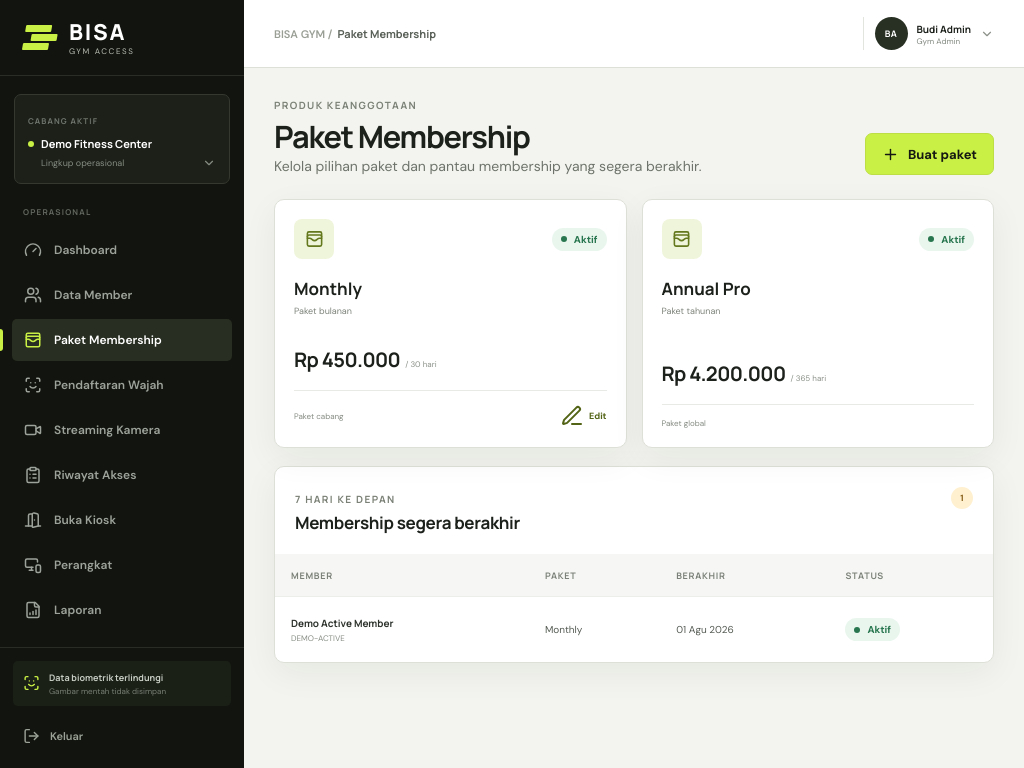
it: admin API integrations › creates a membership plan for an admin
Click the button "Buat paket".
click(930, 154)  # box [865,133,994,175]
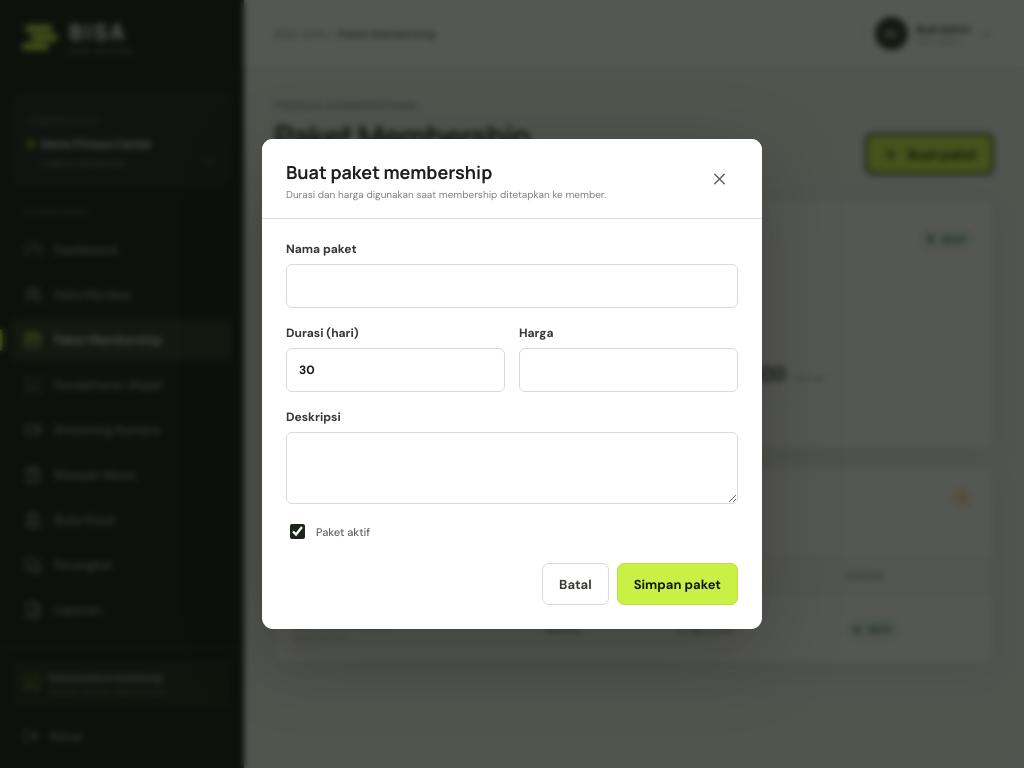
Type "Weekend Fit" into the field labelled "Nama paket".
click(512, 286); type("Weekend Fit")  # box [286,264,738,308]
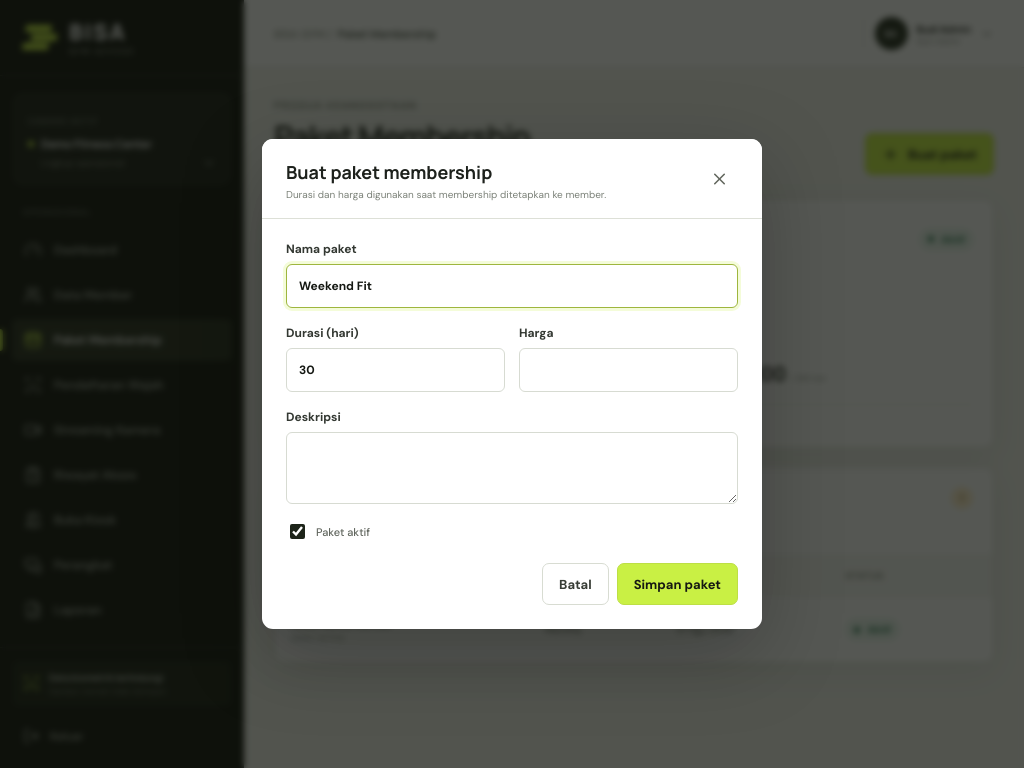
Replace the text in the number field named "Durasi hari" with "8" at (396, 370), box [286,348,505,392]
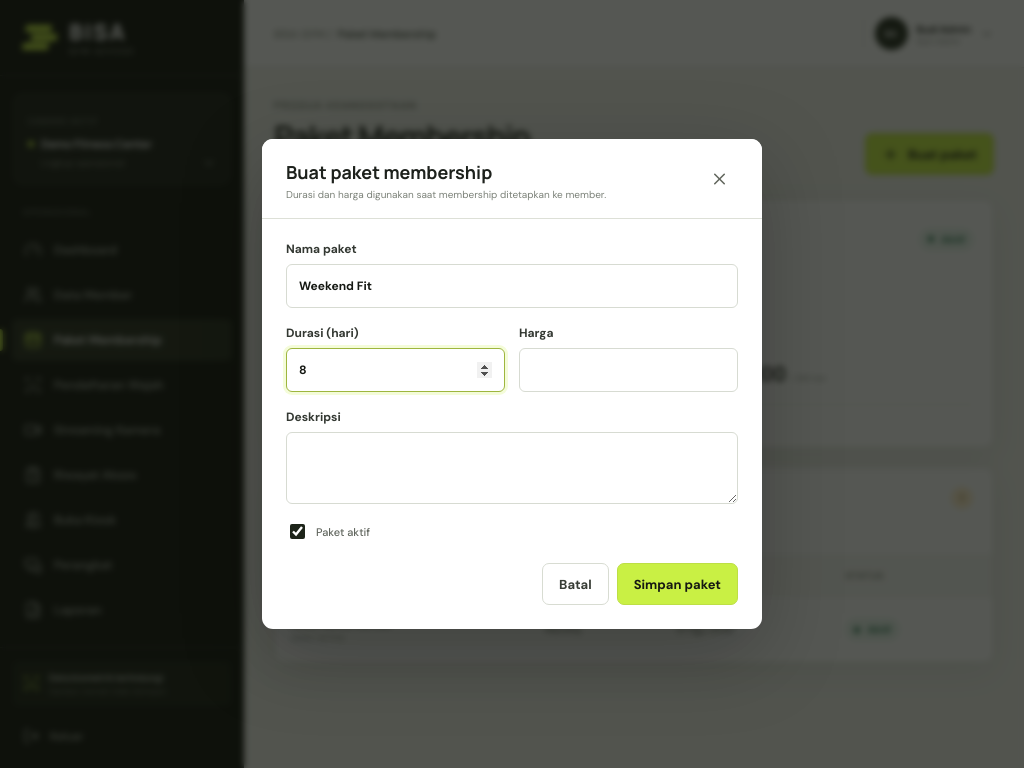
Type "150000" into the number field named "Harga paket".
click(628, 370); type("150000")  # box [519,348,738,392]
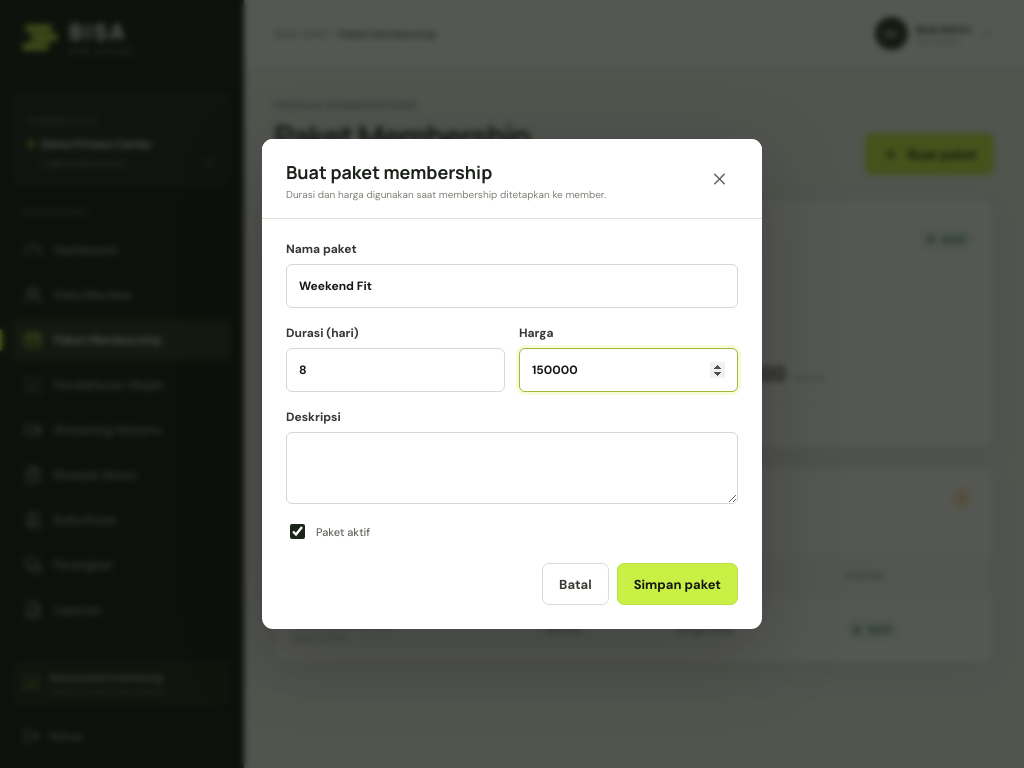
Click the button "Simpan paket".
click(677, 584)  # box [617,563,738,605]
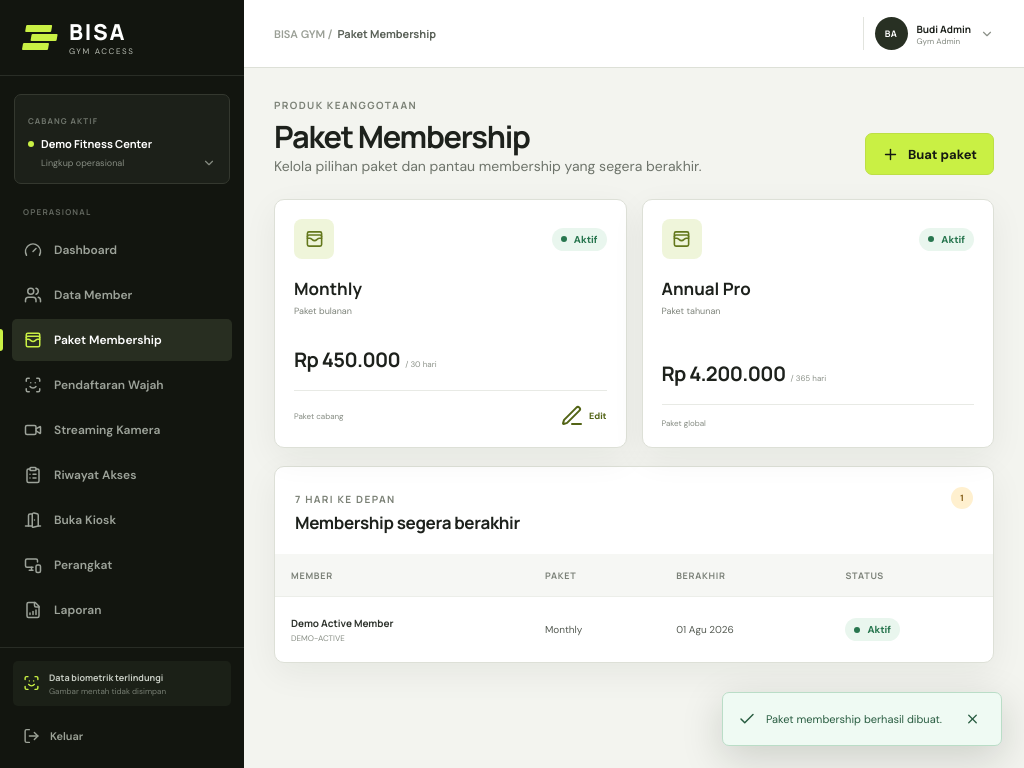
Expected: the text "Paket membership berhasil dibuat." is shown, [766,712,942,726]
